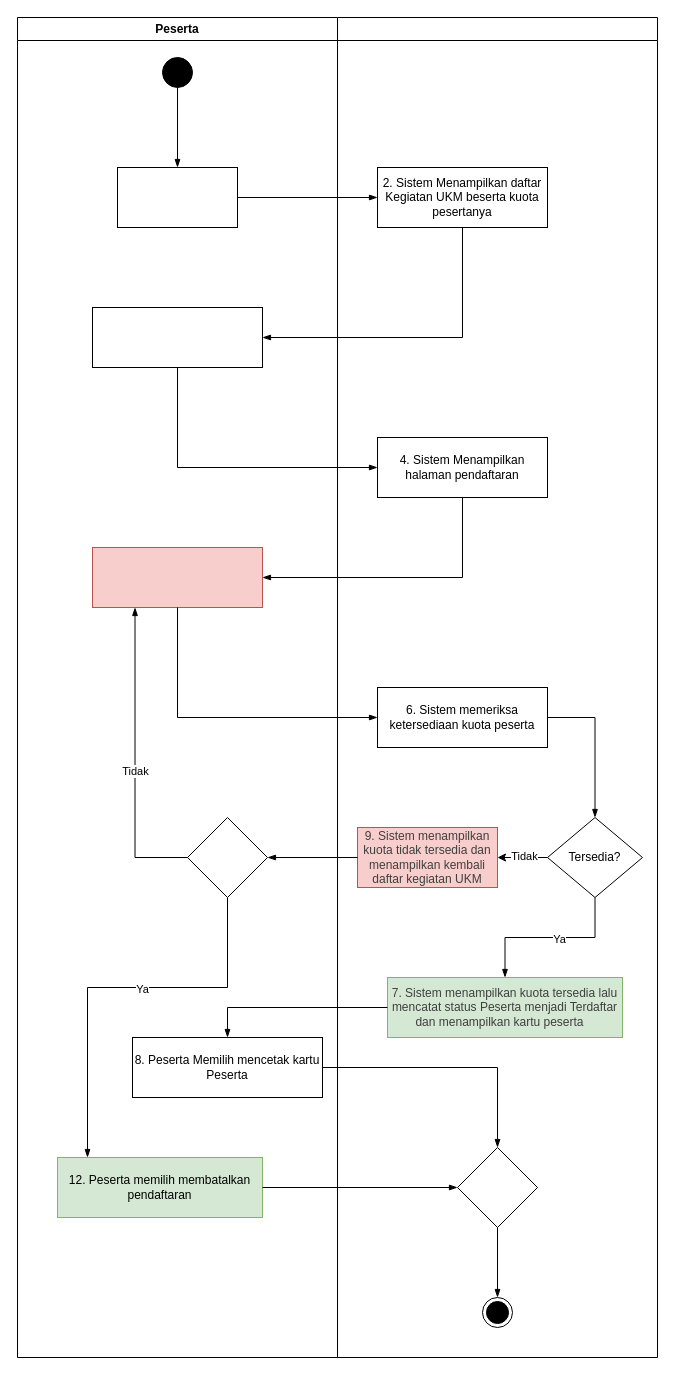
The diagram is 675 pixels wide and 1375 high, and some of its shapes have lost their labels. The shapes that lost their labels are listed below. From the top down, each one's box as (x1, y1, x2, y2) in pixels, then its label:
(116, 166, 238, 228): 1. Peserta Membuka daftar kegiatan UKM
(92, 306, 262, 368): 3. Peserta membuka halaman pendaftaran
(92, 546, 262, 608): 5. Peserta mendaftar kegiatan yang kuotanya masih tersedia
(336, 16, 658, 1358): Sistem SIUKM
(186, 816, 268, 898): Batal?
